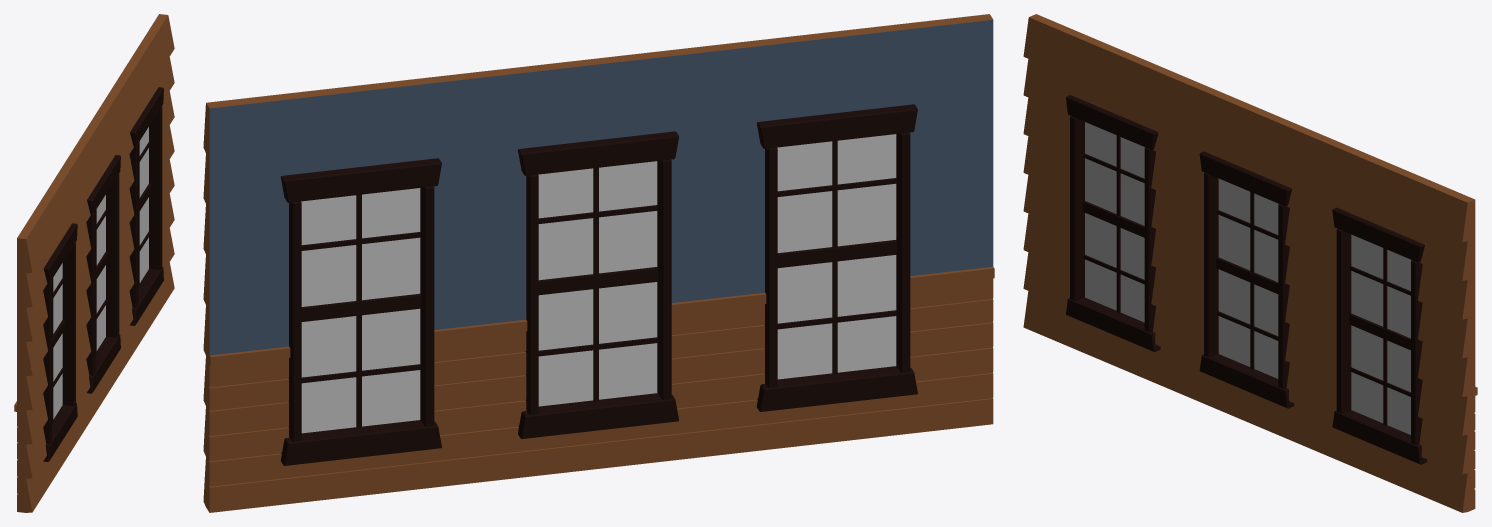
File: ww_window_d.glb
The picture shows the model from 3 angles, left to right: view 1: azimuth 30°, elevation 25°; view 2: azimuth 150°, elevation 25°; view 3: azimuth 270°, elevation 25°; orthographic projection. The views are drawn at different scales.
Visible parts, largest first — view 1: Window_D; view 2: Window_D; view 3: Window_D.
Part boxes in pixels (bbox=[...]): Window_D: bbox=[14, 14, 174, 512]; Window_D: bbox=[203, 14, 994, 512]; Window_D: bbox=[1023, 14, 1477, 512].
Bounding box in the file's own units: 4.68 × 3.52 × 4.68.
